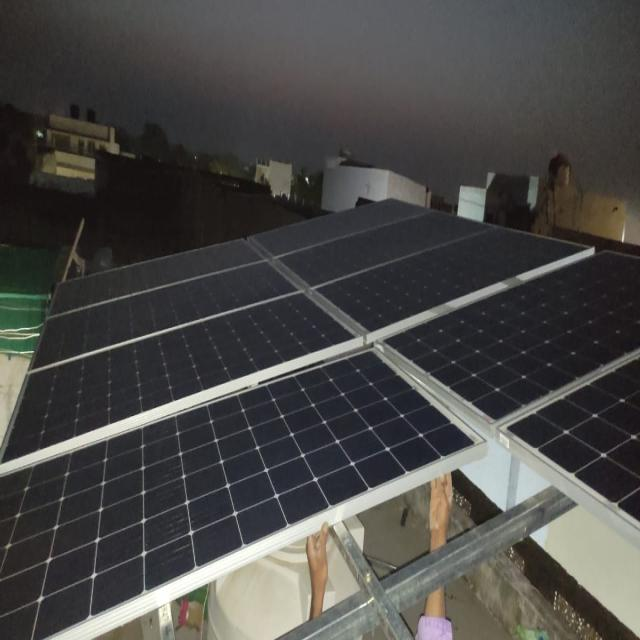clean-solar-panel: (0, 200, 640, 636)
